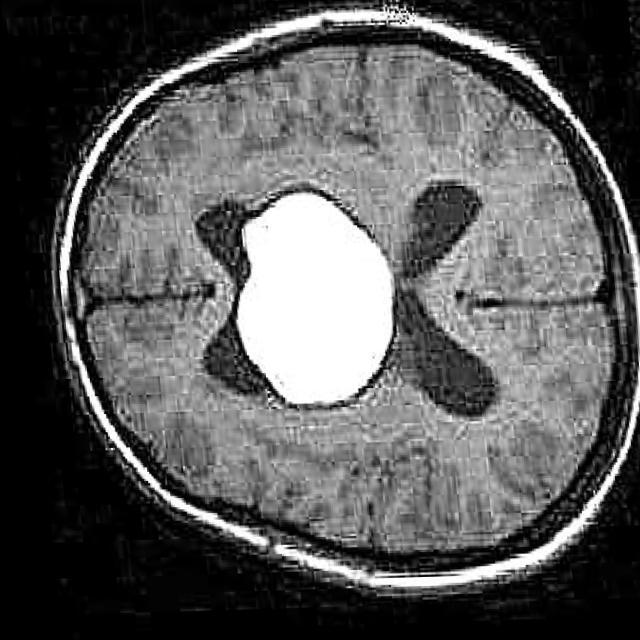Tumor: (231, 192, 389, 407)
